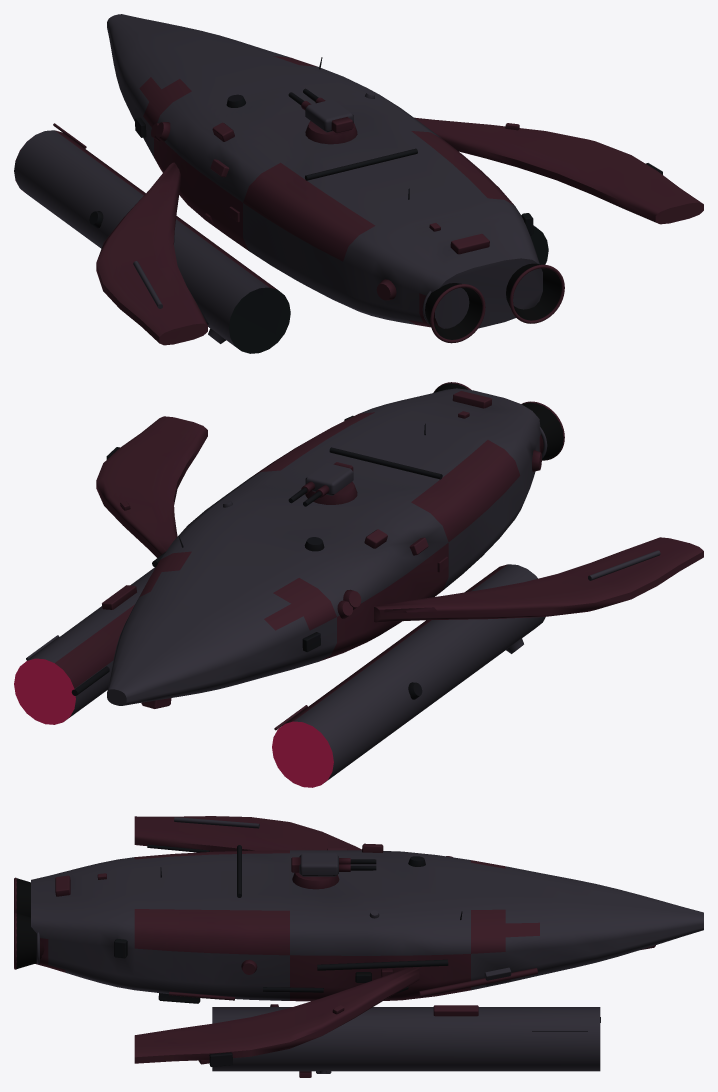
File: lancer-transformed.glb
3 renders of one model, top to bottom at view 1: azimuth 30°, elevation 25°; view 2: azimuth 150°, elevation 25°; view 3: azimuth 270°, elevation 25°, orthographic. The views are drawn at different scales.
Parts seen in each view (by area): view 1: lancer; view 2: lancer; view 3: lancer.
Boxes of the visible parts, box(x1,y1,x2,y2) form: lancer: box(14, 14, 703, 353); lancer: box(14, 382, 703, 787); lancer: box(14, 816, 703, 1077).
Size of the model in its own units: 24.77 by 7.55 by 30.
